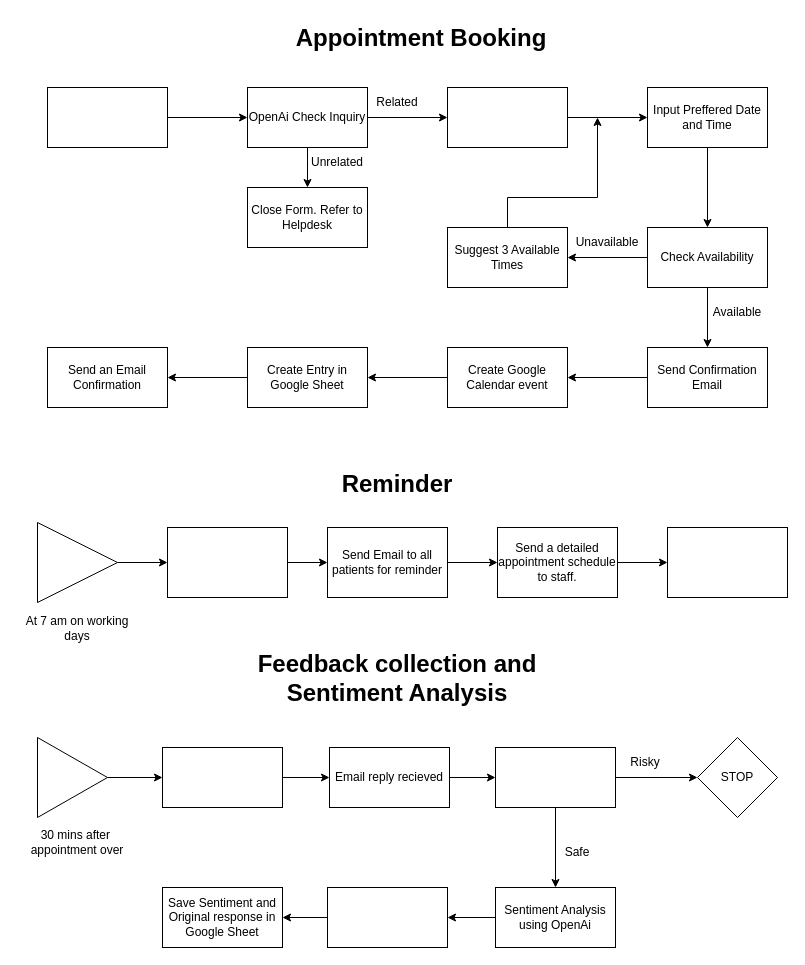
The diagram is 805 pixels wide and 965 high, and some of its shapes have lost their labels. Here are the shapes that lost their labels. From the top down, the box of each, then its label:
(46, 86, 168, 148): User Details Input
(446, 86, 568, 148): Accept Terms and Confitions
(166, 526, 288, 598): Make a list of all appointments schedued today
(666, 526, 788, 598): Mark in Google sheet
(162, 746, 282, 808): Send Email to patient for feedback
(494, 746, 616, 808): Test the email reply for cyber threats, phishing attempts etc.
(326, 886, 448, 948): Based on sentiment, Send Customized Email reply
